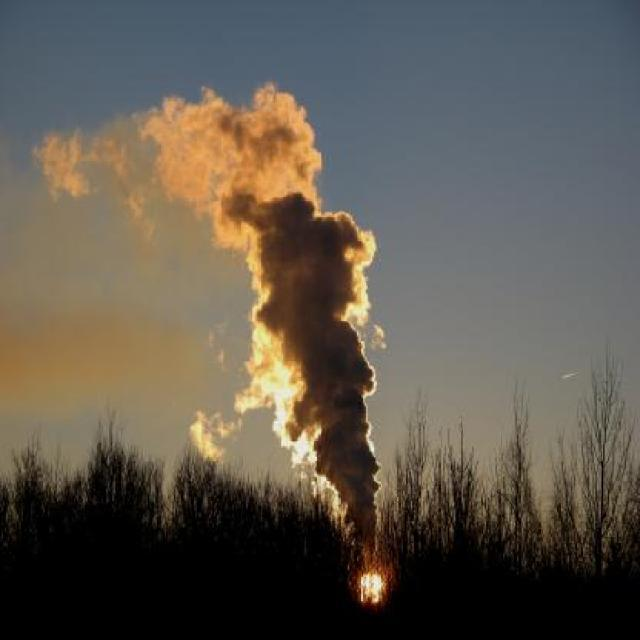Fire: (352, 554, 390, 609)
Smoke: (36, 82, 382, 546)
